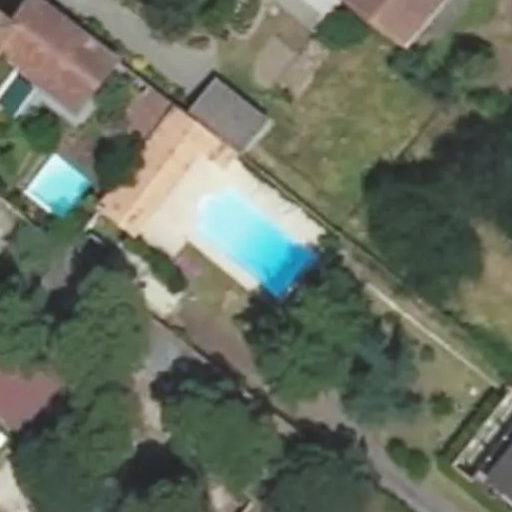pool: (183, 223, 321, 254)
